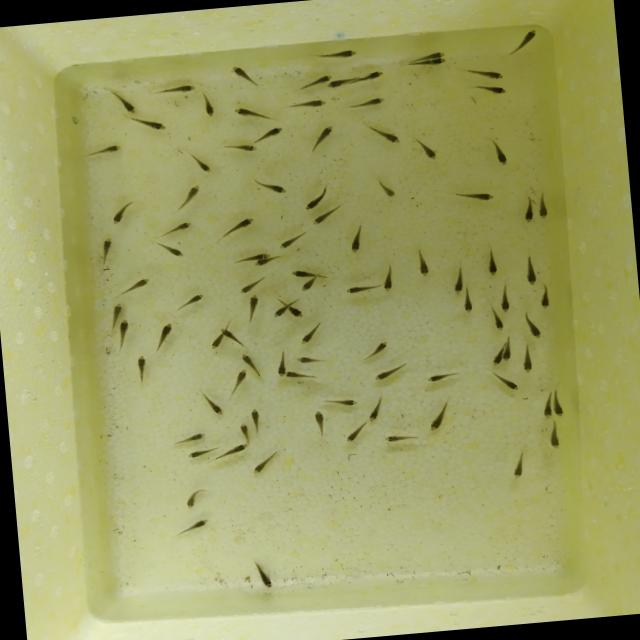fingerling: (306, 118, 344, 152), (244, 557, 280, 592), (104, 198, 138, 228), (250, 448, 280, 478), (184, 152, 218, 178), (454, 185, 498, 205), (222, 213, 262, 234), (274, 229, 312, 251), (84, 141, 125, 161), (297, 188, 331, 212), (486, 138, 513, 168), (308, 205, 343, 228), (468, 64, 508, 84), (232, 102, 274, 121), (180, 485, 207, 513), (371, 122, 402, 146), (172, 518, 211, 537), (108, 90, 136, 116), (152, 238, 185, 260), (200, 385, 224, 415), (252, 174, 284, 196), (91, 235, 116, 263), (153, 321, 177, 350), (307, 407, 330, 437), (380, 430, 420, 447), (372, 176, 399, 201), (510, 28, 538, 52), (228, 64, 258, 86), (362, 339, 393, 360), (372, 364, 408, 382), (178, 182, 202, 209), (252, 125, 290, 142), (416, 136, 439, 164), (412, 246, 432, 278), (426, 406, 448, 434), (486, 308, 509, 334), (508, 453, 530, 480), (214, 443, 248, 460), (296, 74, 332, 90), (136, 116, 168, 134), (493, 370, 519, 392), (446, 267, 466, 295), (227, 139, 262, 155), (522, 256, 540, 287), (322, 394, 359, 409), (198, 95, 222, 118), (114, 319, 135, 345), (345, 227, 365, 254), (288, 266, 326, 280), (478, 79, 506, 98), (300, 325, 324, 347), (131, 353, 152, 378), (232, 248, 269, 262), (247, 254, 290, 266), (286, 98, 329, 110), (160, 220, 192, 236), (238, 278, 268, 295), (519, 194, 536, 224), (524, 312, 542, 340), (481, 252, 502, 276), (233, 350, 258, 370), (533, 193, 551, 220), (230, 368, 250, 392), (366, 398, 384, 424), (456, 290, 474, 316), (316, 49, 358, 60), (544, 424, 562, 449), (219, 322, 244, 340), (379, 267, 397, 292), (124, 276, 154, 291), (354, 95, 384, 110), (538, 391, 554, 419), (178, 293, 210, 307), (340, 282, 372, 296), (423, 371, 460, 383), (519, 347, 536, 373), (177, 431, 208, 445), (242, 296, 260, 320), (410, 57, 448, 68), (158, 84, 196, 95), (354, 70, 388, 82), (552, 393, 569, 416), (338, 428, 363, 443), (412, 50, 445, 61), (178, 450, 214, 460), (248, 408, 264, 430), (236, 421, 252, 442), (294, 352, 322, 364), (538, 284, 550, 310), (498, 289, 511, 313), (323, 79, 351, 90), (300, 277, 319, 293), (275, 350, 286, 377), (488, 346, 504, 364), (266, 304, 290, 316), (283, 370, 307, 381), (108, 303, 124, 319), (288, 304, 305, 318), (504, 339, 512, 361), (210, 337, 223, 350)
